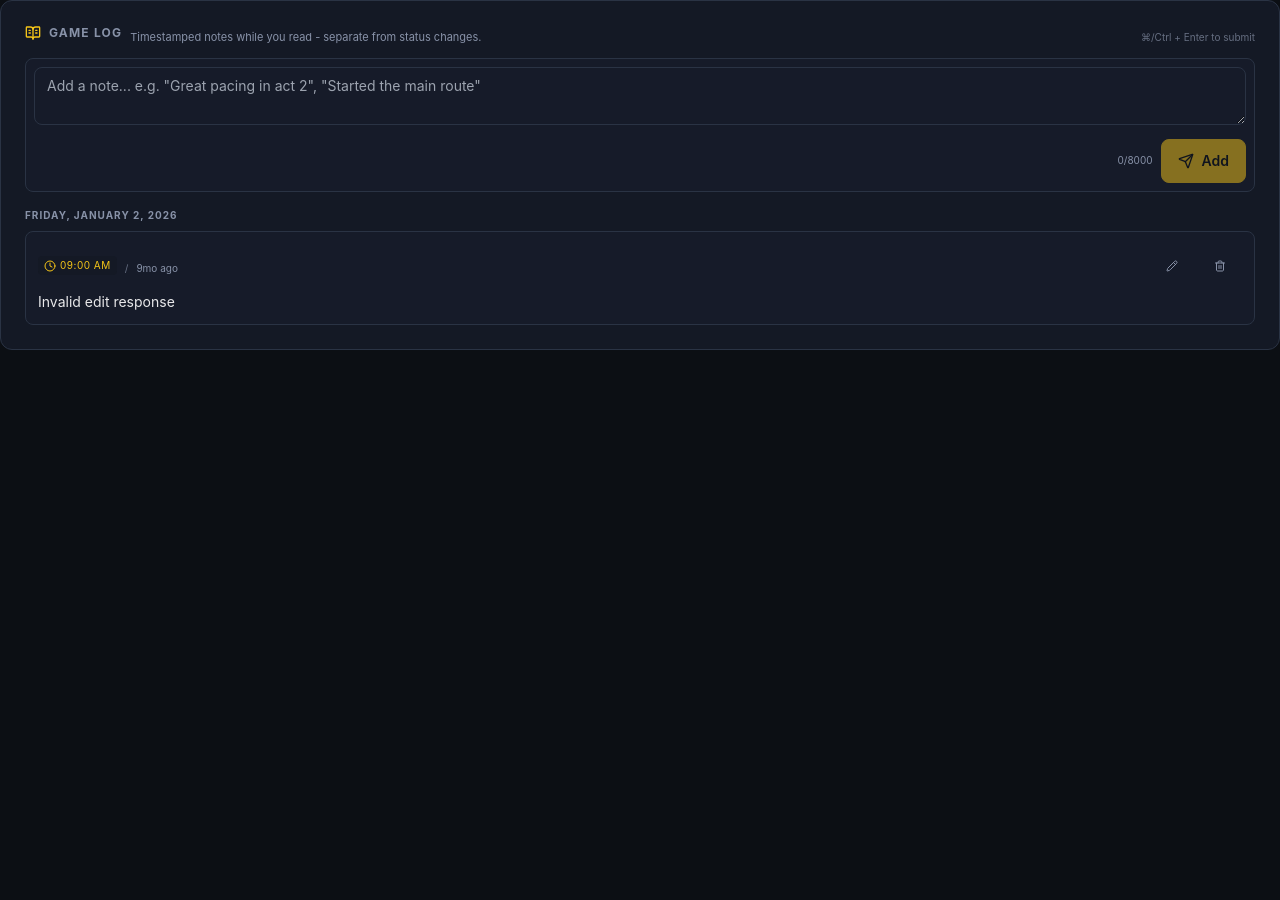
GameLog branches › surfaces the generic error when the edit response shape is invalid
Click the button named "Edit": (1172, 266) [1150,244,1194,288]
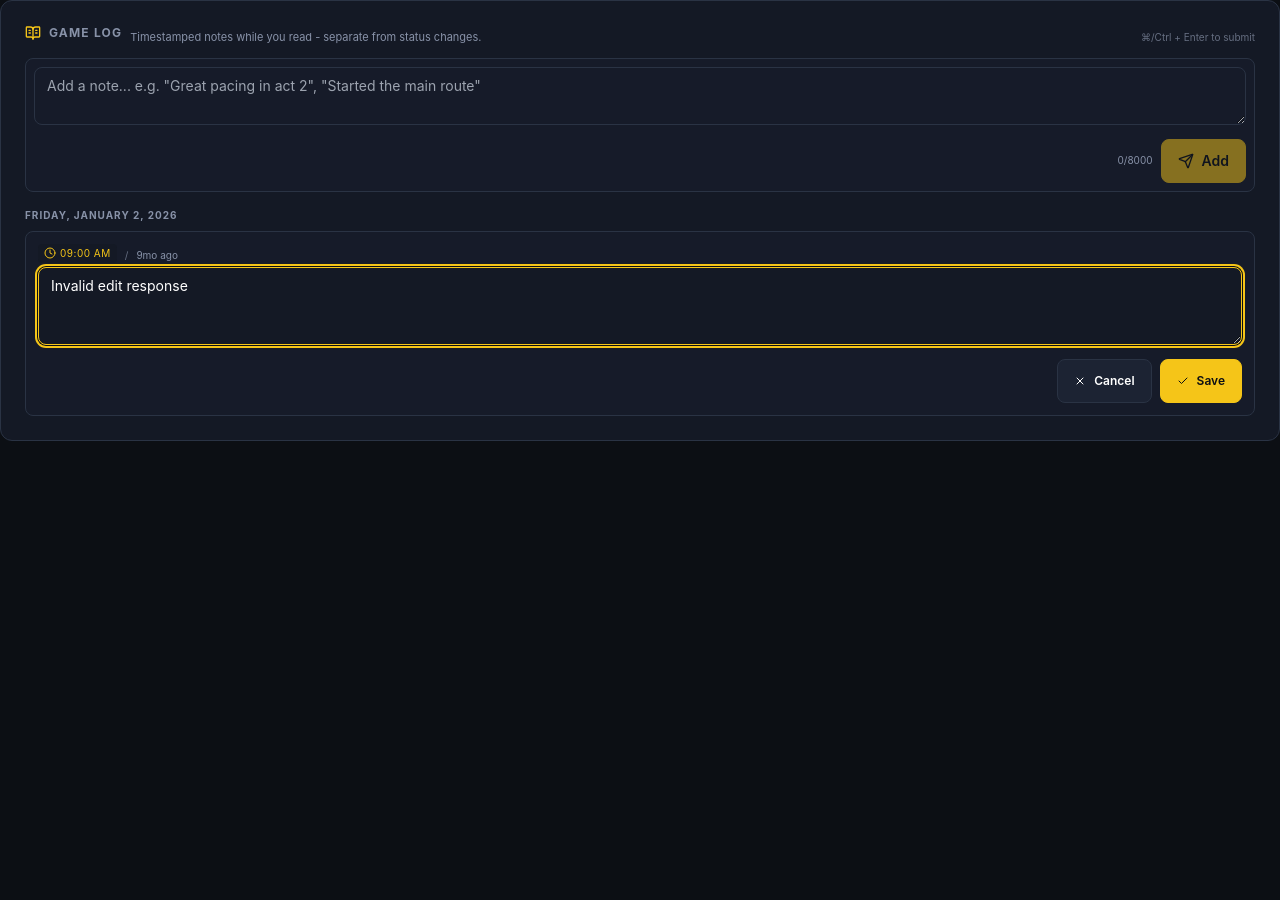
Replace the text in the text box showing "Invalid edit response" with "Still invalid": (640, 306) [38,267,1242,345]
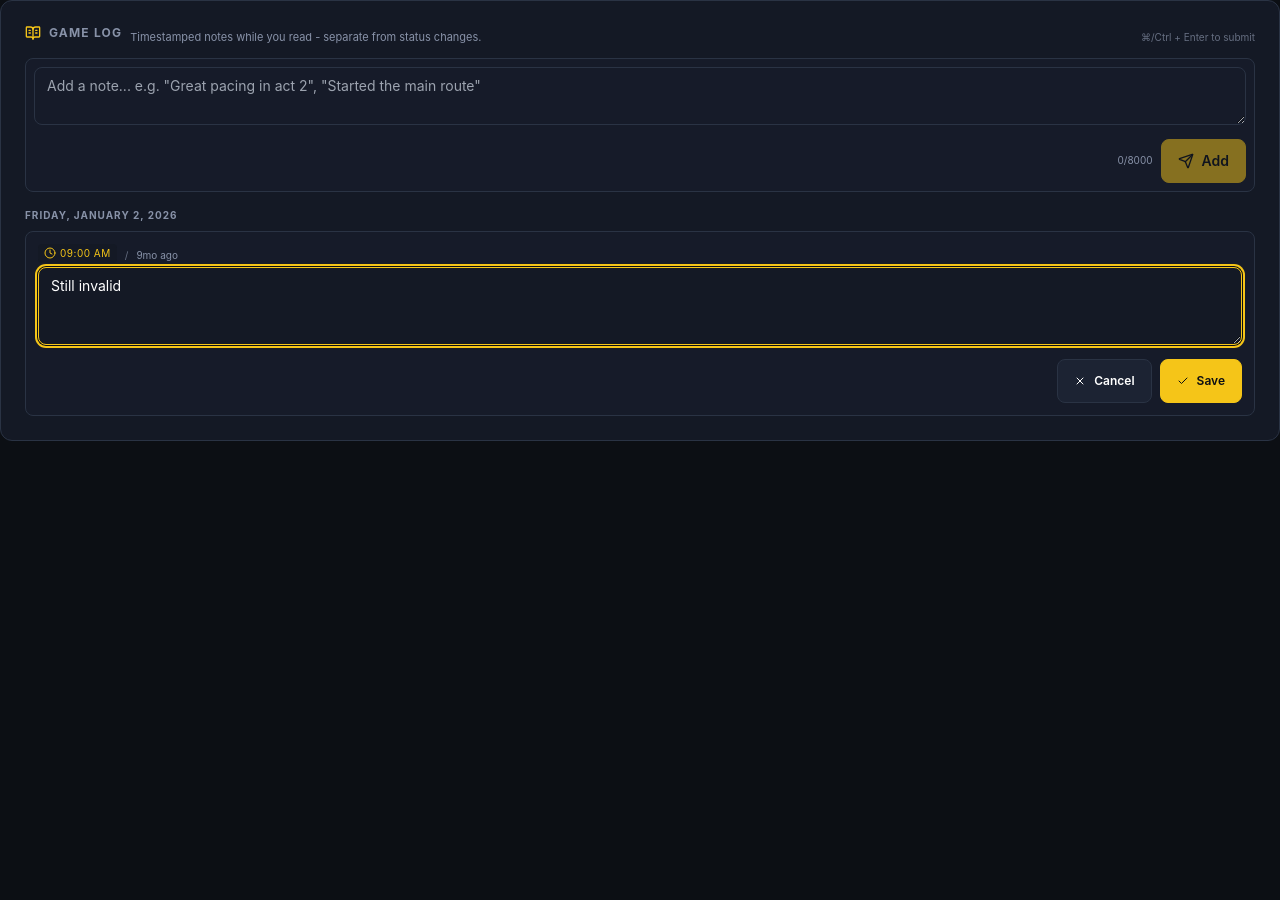
Click the button "Save": (1201, 381) [1160,359,1242,403]
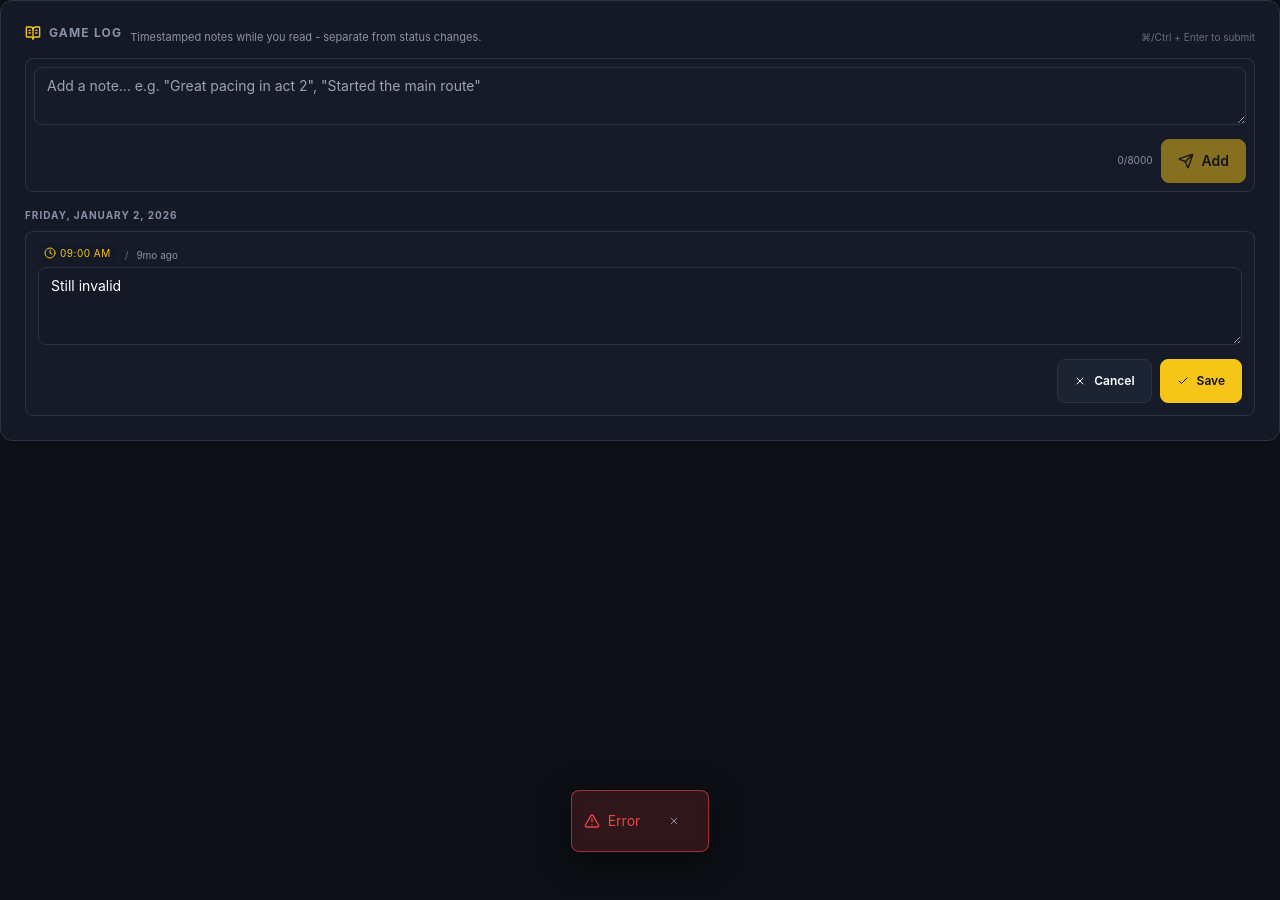
Result: the text "Error" is shown at [608,811,640,831]
